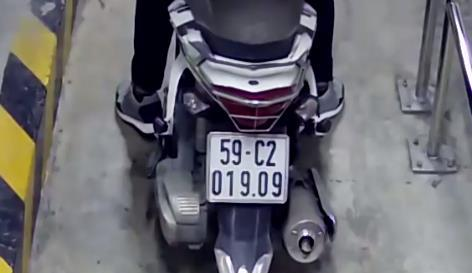lisence: (206, 133, 289, 204)
